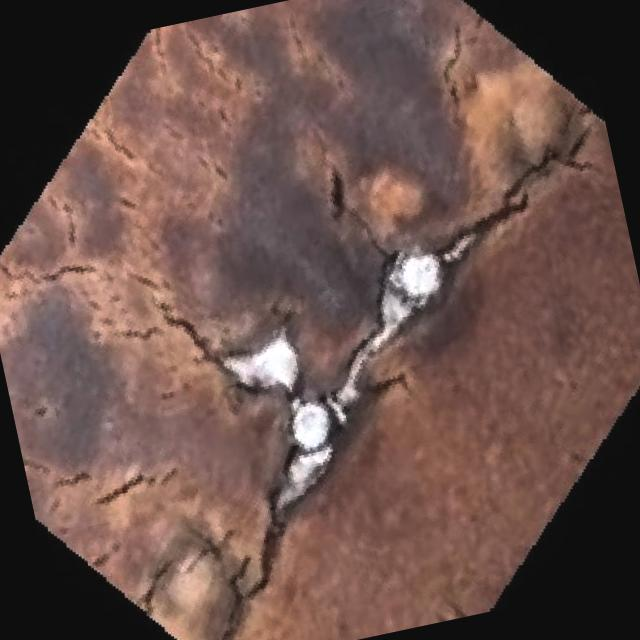crack: (455, 132, 582, 286), (140, 297, 218, 390), (329, 197, 393, 260)
